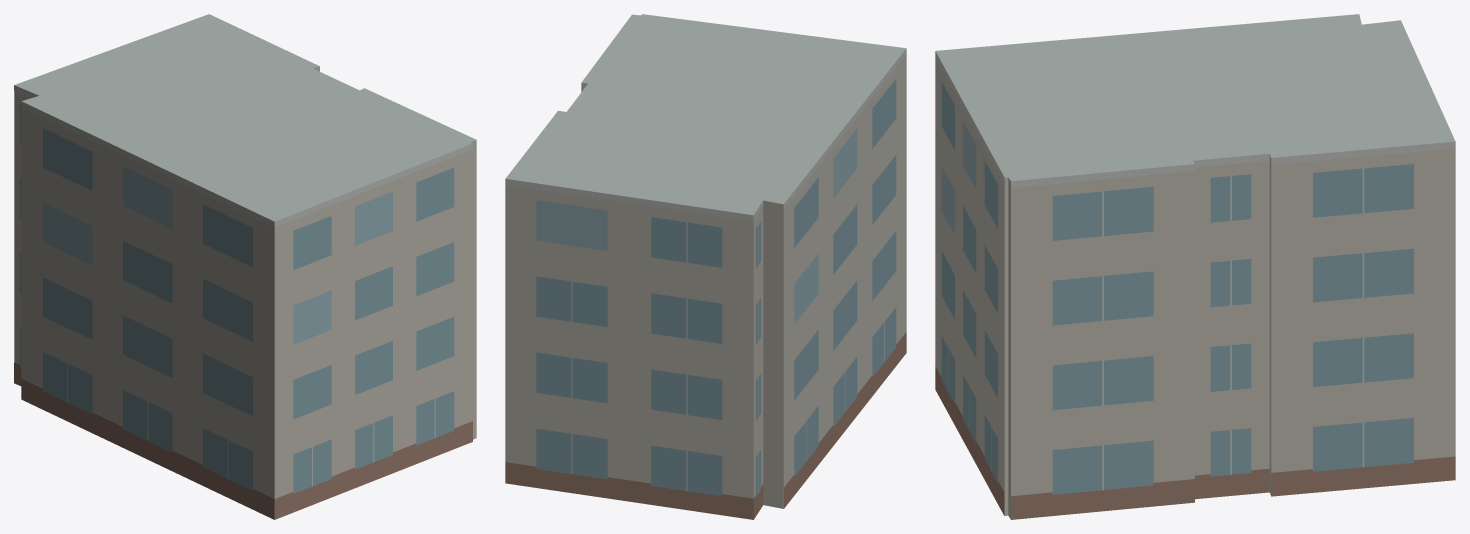
The model's file is survey-upis-32834344.glb.
3 renders of one model, left to right at view 1: azimuth 30°, elevation 25°; view 2: azimuth 150°, elevation 25°; view 3: azimuth 270°, elevation 25°, orthographic. The views are drawn at different scales.
Parts seen in each view (by area): view 1: survey-upis-32834344.tmp; view 2: survey-upis-32834344.tmp; view 3: survey-upis-32834344.tmp.
Part boxes in pixels (<box>): survey-upis-32834344.tmp: <box>14,14,476,519</box>; survey-upis-32834344.tmp: <box>505,14,906,519</box>; survey-upis-32834344.tmp: <box>935,14,1455,519</box>.
Size of the model in its own units: 12.72 by 12 by 16.72.
